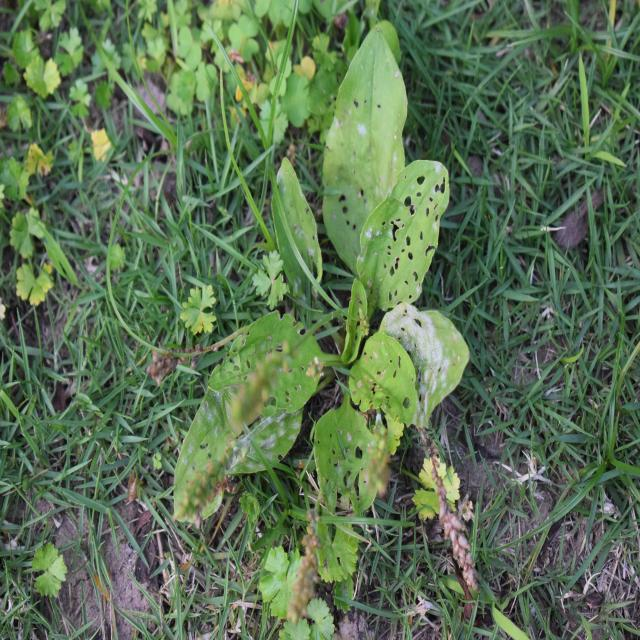plantain: (166, 45, 468, 542)
